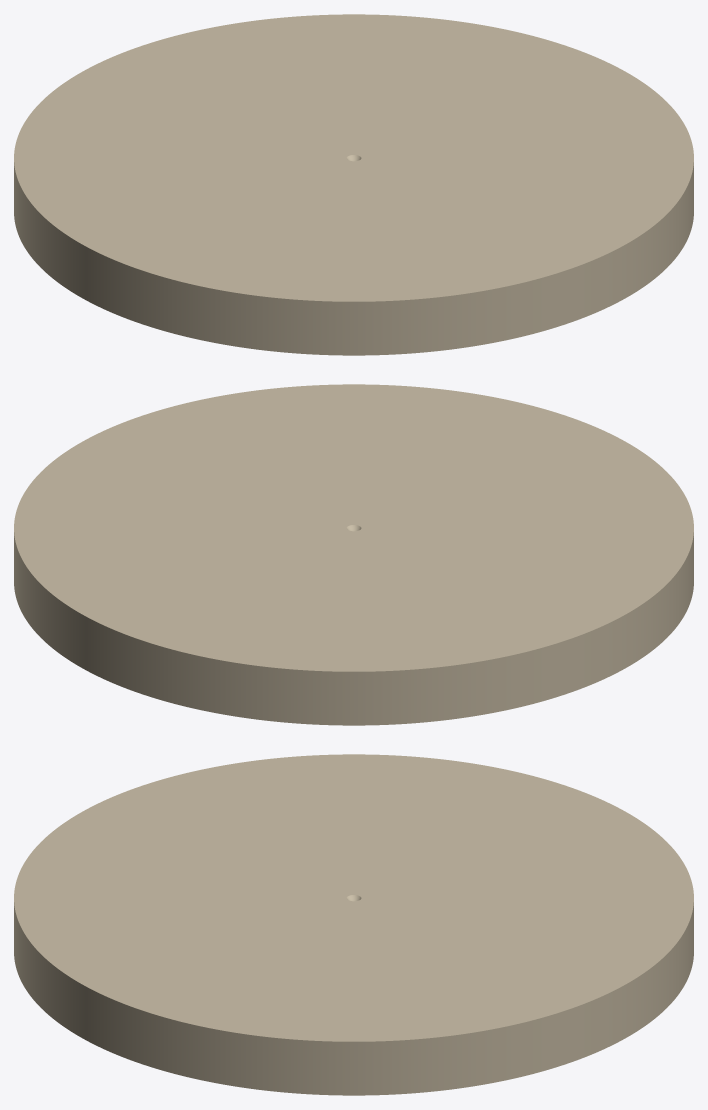
File: top_plate.glb
3 renders of one model, top to bottom at view 1: azimuth 30°, elevation 25°; view 2: azimuth 150°, elevation 25°; view 3: azimuth 270°, elevation 25°, orthographic.
Visible parts, largest first — view 1: top_plate; view 2: top_plate; view 3: top_plate.
Boxes of the visible parts, x1=… form: top_plate: x1=14, y1=14, x2=693, y2=355; top_plate: x1=14, y1=384, x2=693, y2=725; top_plate: x1=14, y1=754, x2=693, y2=1095.
Bounding box in the file's own units: 138 × 12 × 138.
